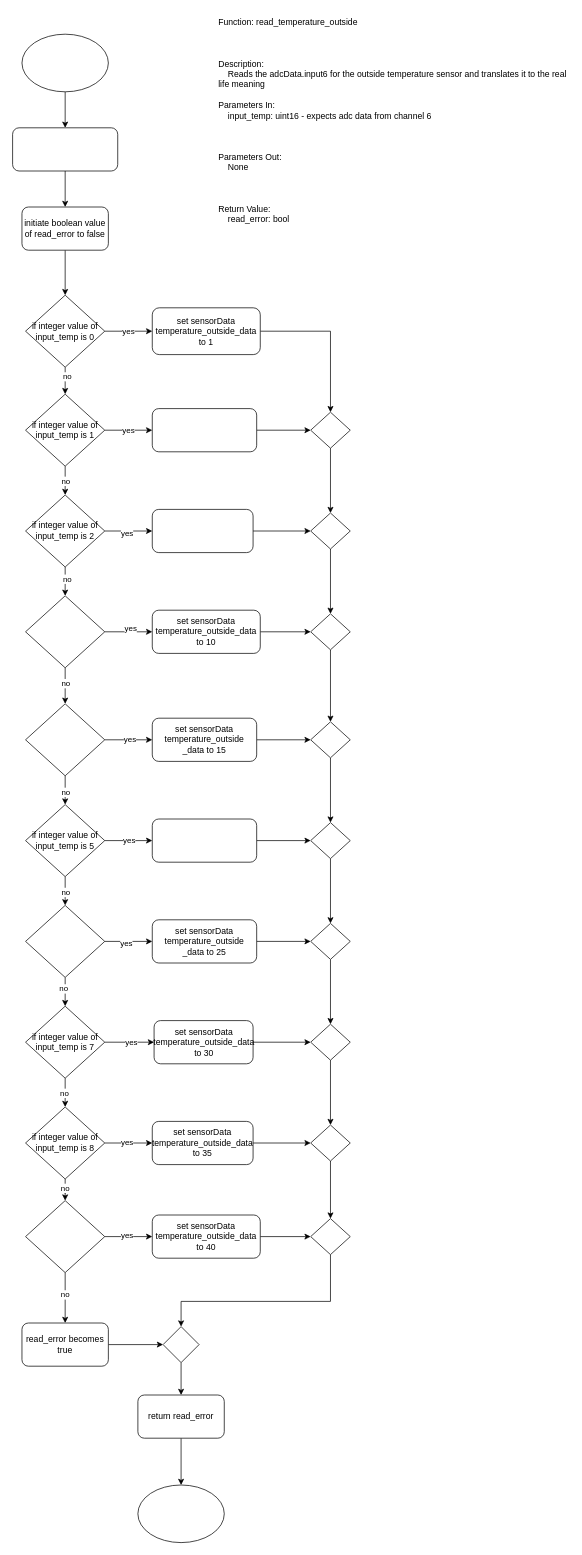
Some shapes in this 582 by 1555 pixel diagram are drawn without their labels. The shapes that lost their labels are listed below. From the top down, each one's centre as x and y in pixels, then its label:
At point (65, 149): "call read_emperature_outside".
At point (204, 430): "set sensorData temperature_outside _data to 0".
At point (202, 531): "set sensorData temperature_outside _data to 5".
At point (65, 631): "if integer value of input_temp is 3".
At point (65, 739): "if integer value of input_temp is 4".
At point (204, 840): "set sensorData temperature_outside _data to 20".
At point (65, 941): "if integer value of input_temp is 6".
At point (65, 1236): "if integer value of input_temp is 9".
